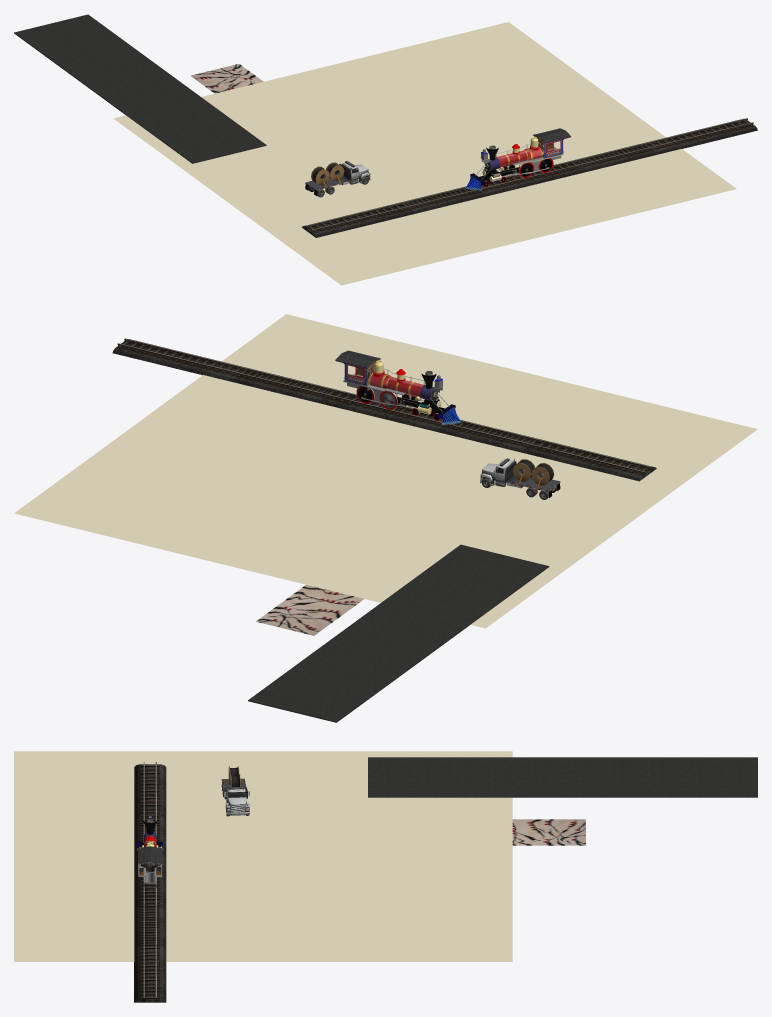
The picture shows the model from 3 angles, top to bottom: view 1: azimuth 30°, elevation 25°; view 2: azimuth 150°, elevation 25°; view 3: azimuth 270°, elevation 25°; orthographic projection. The views are drawn at different scales.
Visible parts, largest first — view 1: Terrain 6,4, Driveway 0.1 - 12.0 - 256.0, TRACKSTRAIGHT16 Rail (×3), Locomotive with smoke Jupiter, TRACKSTRAIGHT32 Rail (×2), Primitive, Truck HF-6000 Flatbed; view 2: Terrain 6,4, Driveway 0.1 - 12.0 - 256.0, TRACKSTRAIGHT16 Rail (×3), Locomotive with smoke Jupiter, TRACKSTRAIGHT32 Rail (×2), Primitive, Truck HF-6000 Flatbed; view 3: Terrain 6,4, Driveway 0.1 - 12.0 - 256.0, TRACKSTRAIGHT16 Rail (×3), TRACKSTRAIGHT32 Rail (×2), Primitive, Locomotive with smoke Jupiter, Truck HF-6000 Flatbed.
Part boxes in pixels (x1,y1,x2,y2): Terrain 6,4: (113,22,736,285); Driveway 0.1 - 12.0 - 256.0: (14,14,266,163); TRACKSTRAIGHT16 Rail (×3): (301,118,757,237); Locomotive with smoke Jupiter: (465,128,570,190); TRACKSTRAIGHT32 Rail (×2): (400,142,657,213); Primitive: (190,64,263,93); Truck HF-6000 Flatbed: (311,162,344,188); Terrain 6,4: (14,314,757,628); Driveway 0.1 - 12.0 - 256.0: (248,544,548,722); TRACKSTRAIGHT16 Rail (×3): (112,338,656,481); Locomotive with smoke Jupiter: (335,350,461,424); TRACKSTRAIGHT32 Rail (×2): (232,367,537,452); Primitive: (256,584,363,635); Truck HF-6000 Flatbed: (513,459,554,489); Terrain 6,4: (14,751,512,961); Driveway 0.1 - 12.0 - 256.0: (368,757,757,797); TRACKSTRAIGHT16 Rail (×3): (134,762,166,1002); TRACKSTRAIGHT32 Rail (×2): (134,814,166,948); Primitive: (512,819,585,845); Locomotive with smoke Jupiter: (137,816,163,887); Truck HF-6000 Flatbed: (225,787,249,815).
Size of what is drawn, in the model's own units: 76.3 by 7.7 by 95.46.
90 materials, 64 textured.
